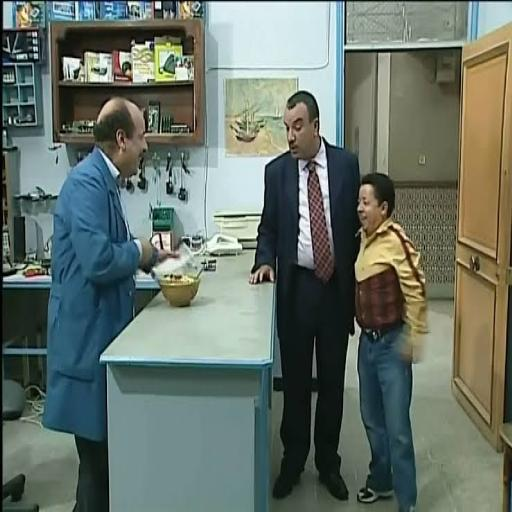beji_matrix: (94, 99, 147, 178)
fouchika: (356, 171, 395, 236)
slimane: (283, 90, 323, 158)
